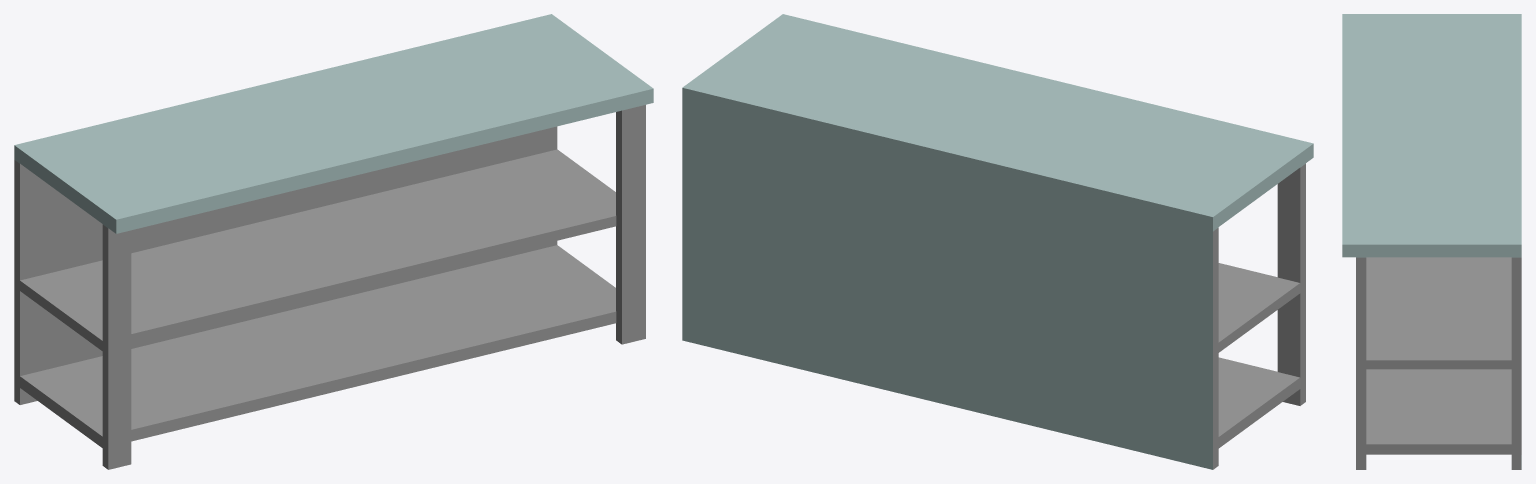
File: CounterLong03Combo.fbx
3 renders of one model, left to right at view 1: azimuth 30°, elevation 25°; view 2: azimuth 150°, elevation 25°; view 3: azimuth 270°, elevation 25°, orthographic. The views are drawn at different scales.
Parts seen in each view (by area): view 1: polySurface8, polySurface3; view 2: polySurface7, polySurface3, polySurface8; view 3: polySurface3, polySurface8.
Boxes of the visible parts, x1=… form: polySurface8: x1=14, y1=105, x2=645, y2=469; polySurface3: x1=14, y1=14, x2=653, y2=233; polySurface7: x1=682, y1=102, x2=1212, y2=469; polySurface3: x1=682, y1=14, x2=1313, y2=231; polySurface8: x1=1213, y1=164, x2=1305, y2=469; polySurface3: x1=1342, y1=14, x2=1521, y2=257; polySurface8: x1=1356, y1=257, x2=1521, y2=469.
Bounding box in the file's own units: 1978 × 900 × 650.
